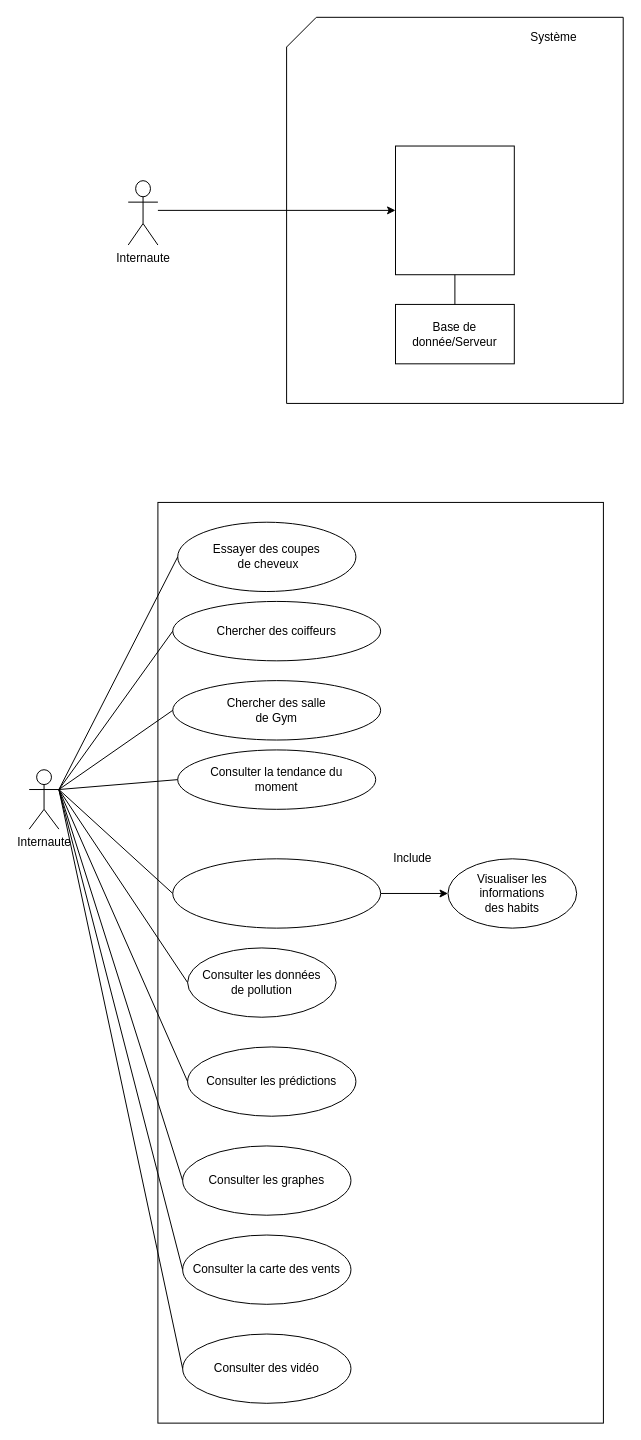
Image size: 641x1440. Some labels were removed from this diagram. The centre of each missing label's shape, as x and y in pixels:
"Application Web" belongs at (x=454, y=210).
"Essayer des habits" belongs at (x=276, y=893).
